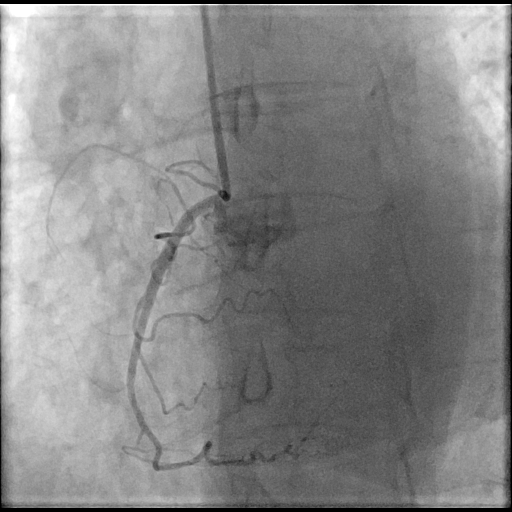RCA: (127, 189, 230, 471)
catherter: (202, 6, 231, 201)
